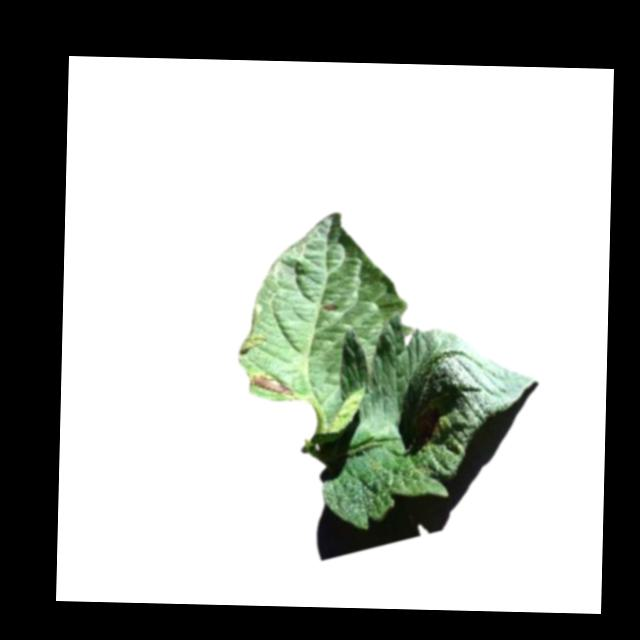Early_blight: (248, 368, 295, 392), (321, 302, 339, 312)
